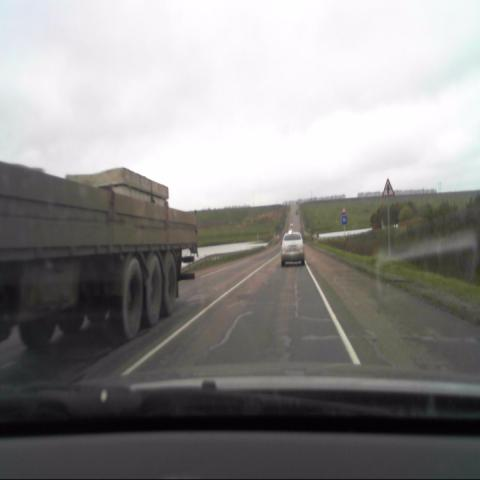2_3: (382, 179, 395, 197)
